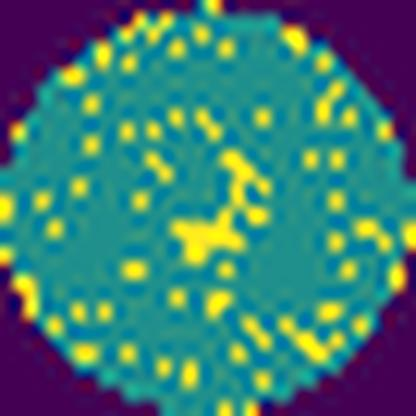Center: (162, 145, 280, 274)
